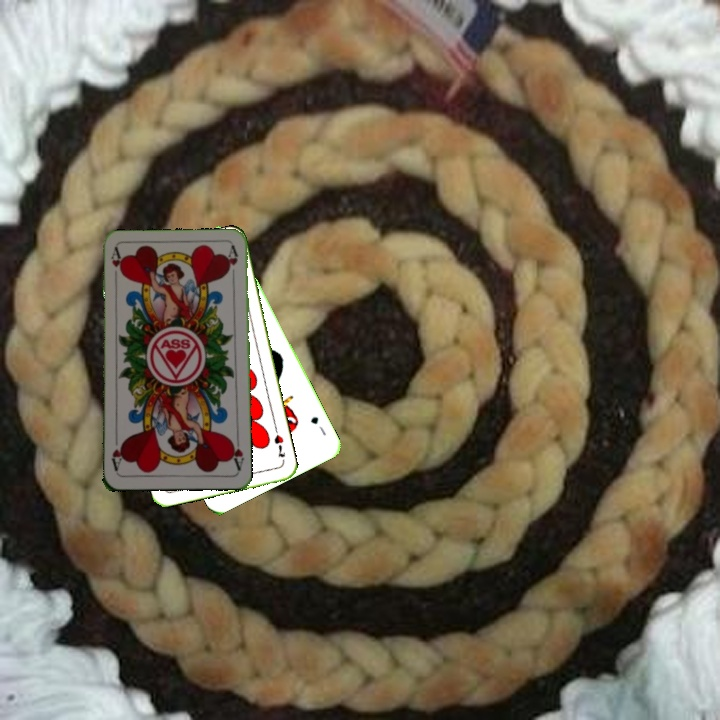GU: (307, 412, 329, 438)
H7: (270, 430, 288, 460)
HA: (227, 432, 246, 473), (107, 245, 124, 285)
